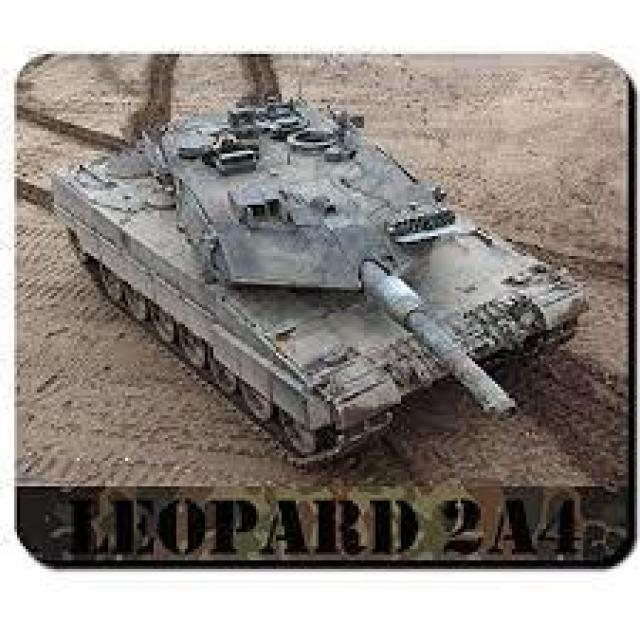MIL_MBT: (64, 97, 567, 441)
